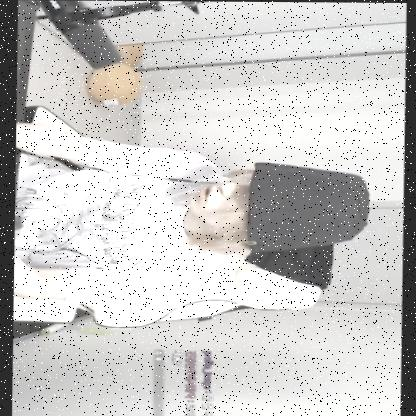streamer: (14, 123, 372, 305)
